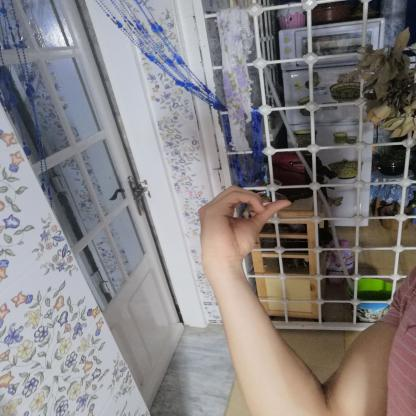WAW: (187, 179, 302, 272)
